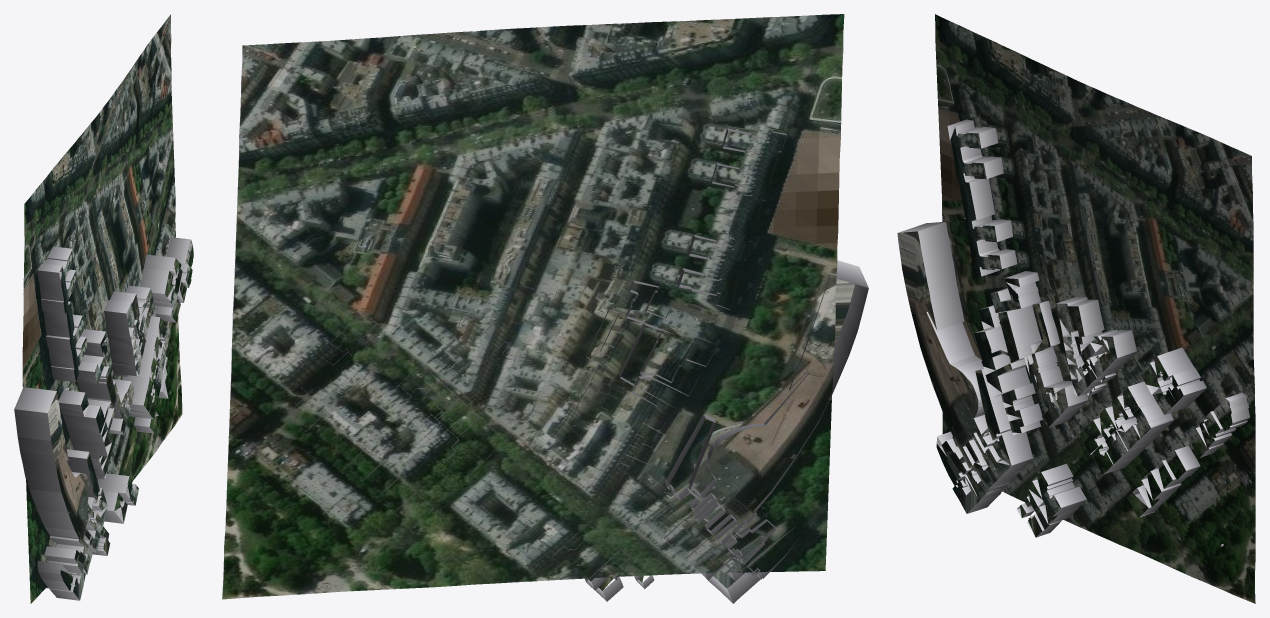
3 renders of one model, left to right at view 1: azimuth 30°, elevation 25°; view 2: azimuth 150°, elevation 25°; view 3: azimuth 270°, elevation 25°, orthographic. The views are drawn at different scales.
Bounding box in the file's own units: 334 × 435 × 296.
1 material, 1 textured.
